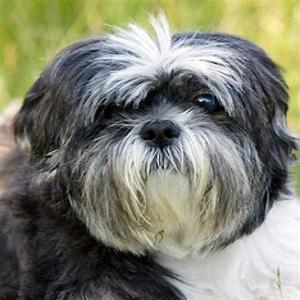dog: (21, 31, 295, 258)
